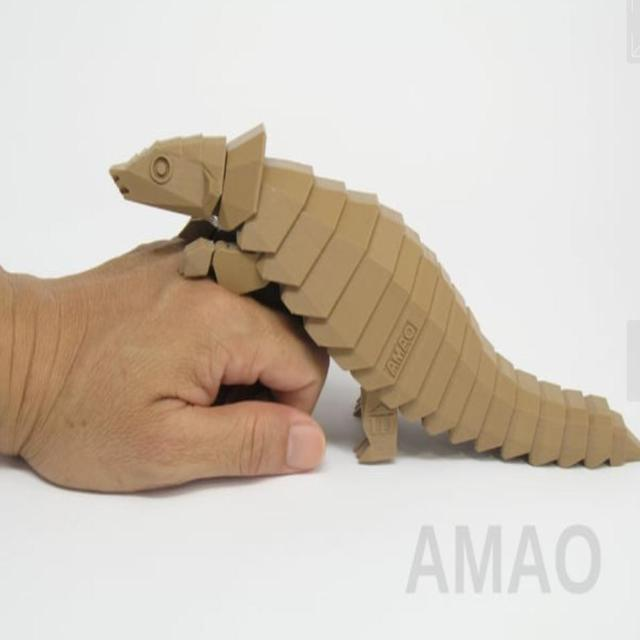Without deffect: (115, 118, 640, 512)
